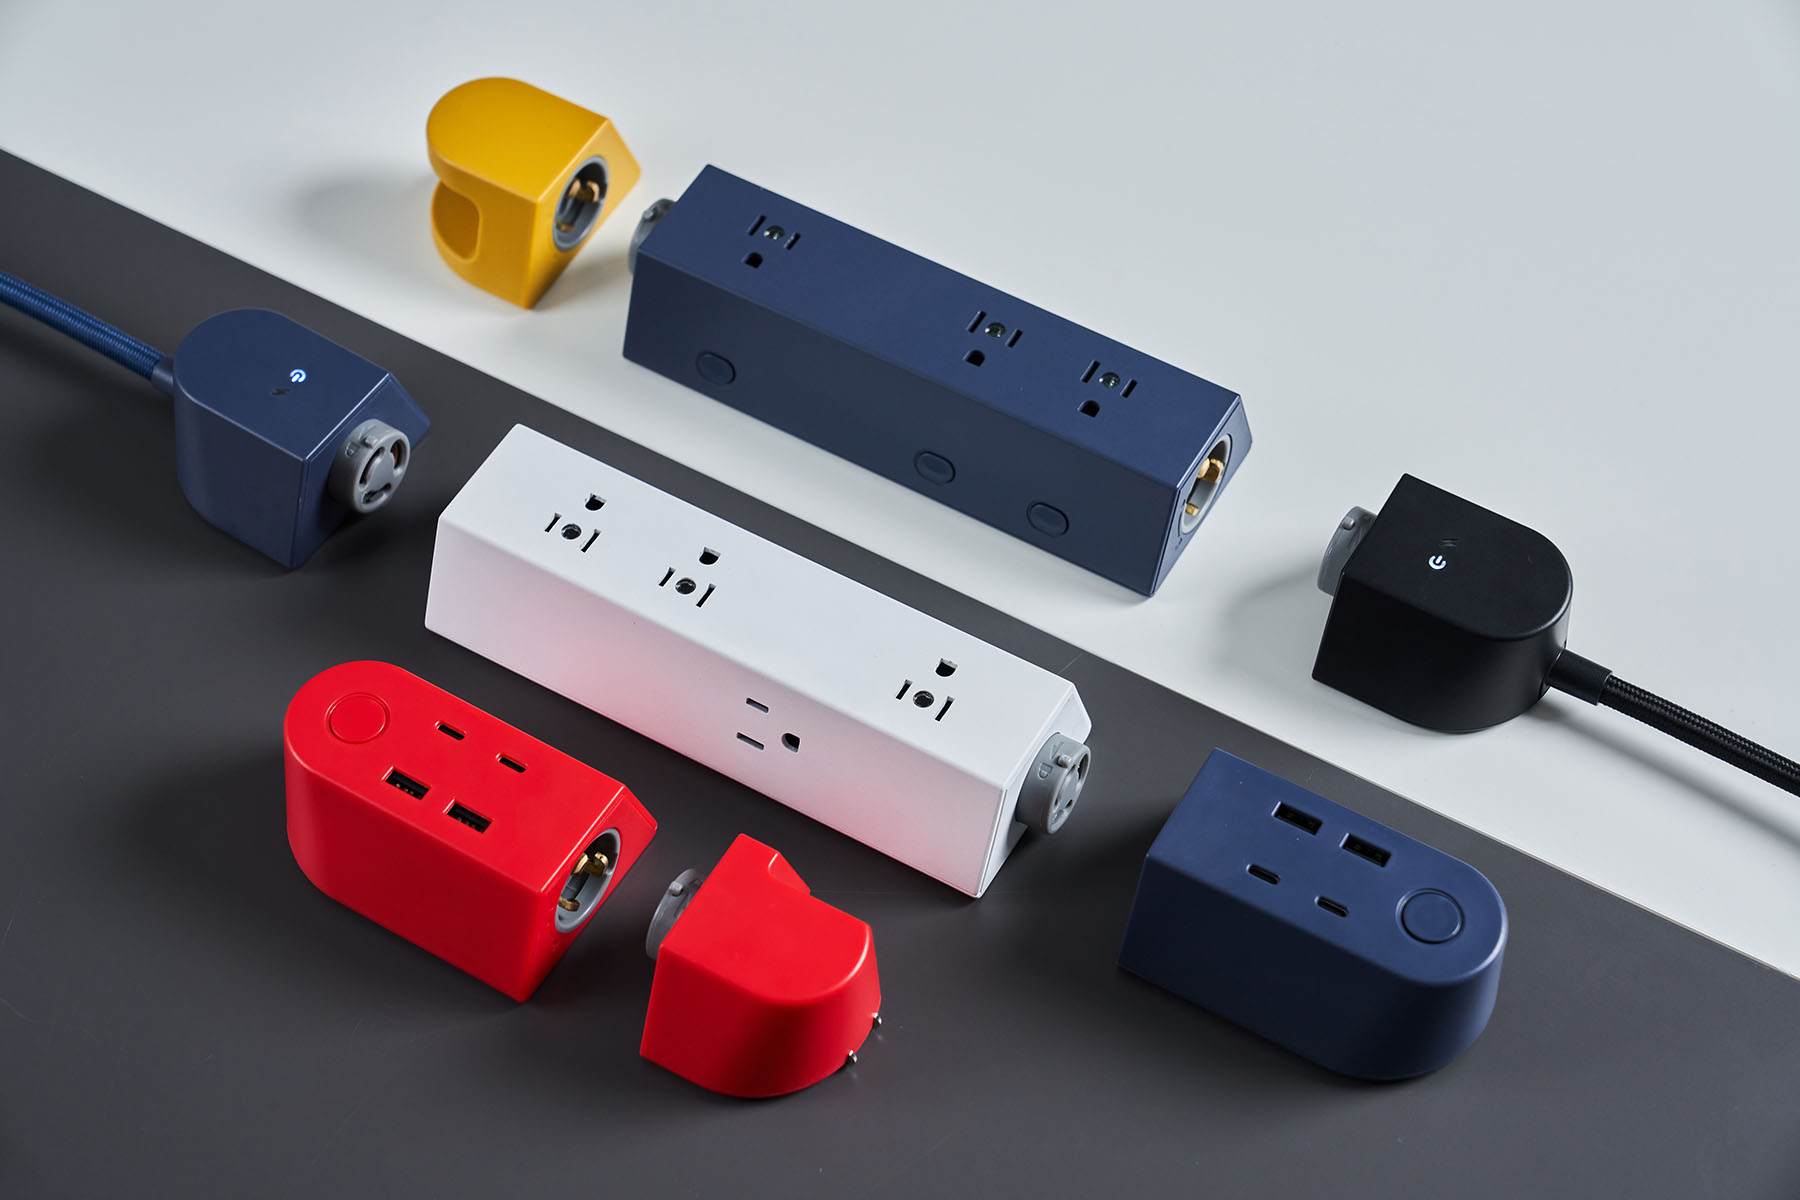socket: (425, 421, 1096, 901), (635, 159, 1256, 596), (285, 655, 662, 1027), (1130, 746, 1509, 1093)
